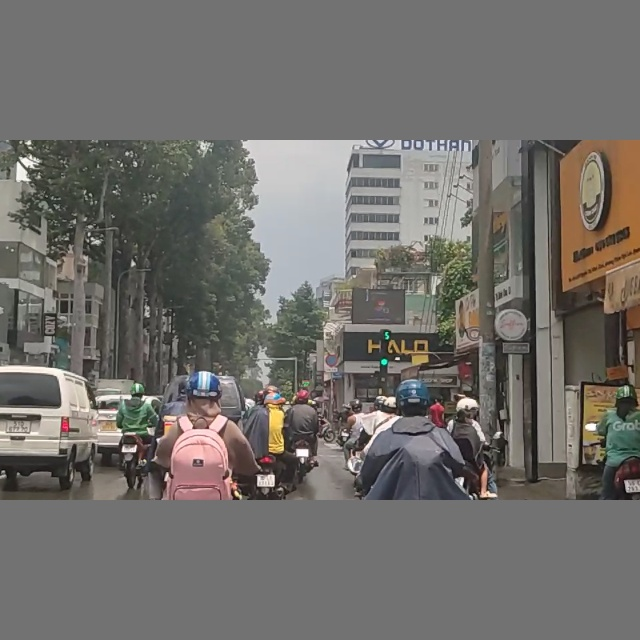P.131a: (325, 352, 340, 367)
